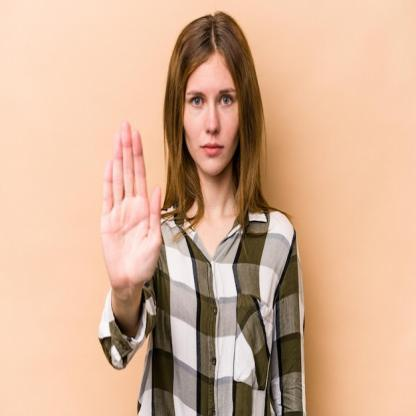stop: (94, 116, 166, 288)
